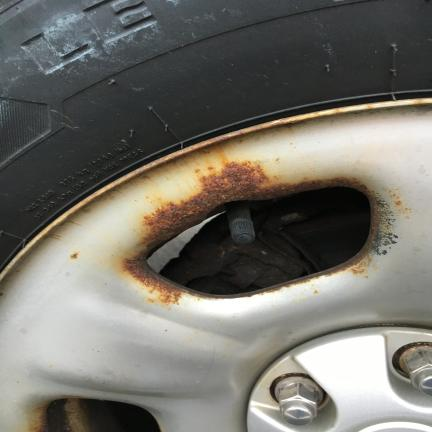karat: (147, 163, 365, 239)
